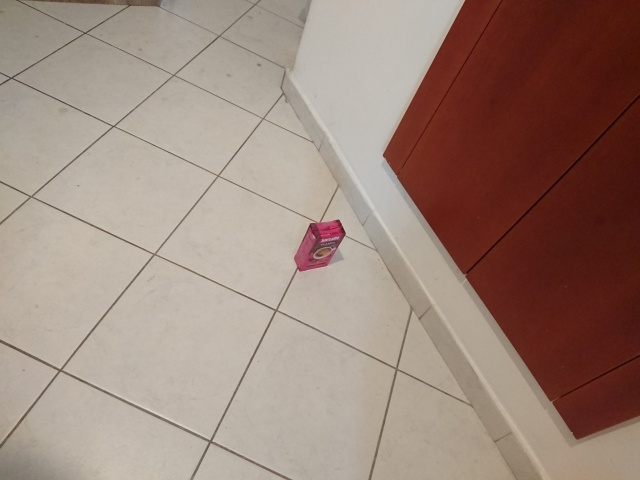Barcaffe Classic Original 225g: (292, 217, 347, 273)
